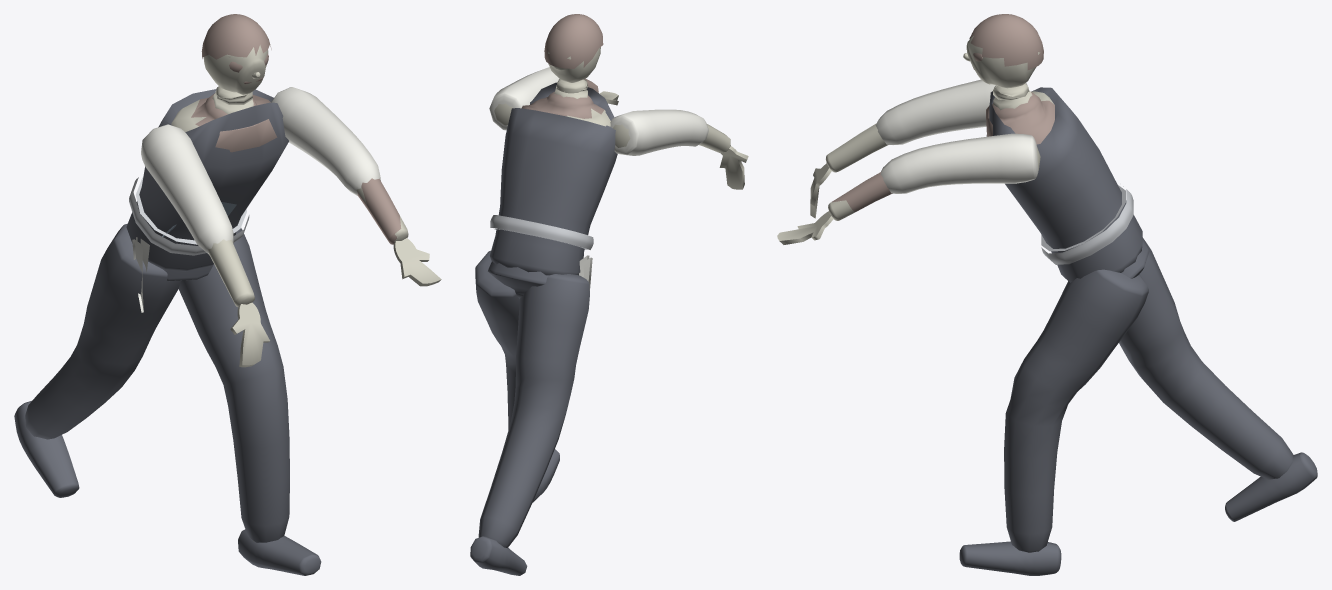
File: undead-horde-and-infected-variants-walker-garage-mecha-745b73ea__11996.glb
3 renders of one model, left to right at view 1: azimuth 30°, elevation 25°; view 2: azimuth 150°, elevation 25°; view 3: azimuth 270°, elevation 25°, orthographic. The views are drawn at different scales.
Visible parts, largest first — view 1: walker-garage-mechanic-lunging; view 2: walker-garage-mechanic-lunging; view 3: walker-garage-mechanic-lunging.
Part boxes in pixels (x1=…): walker-garage-mechanic-lunging: x1=14, y1=14, x2=441, y2=575; walker-garage-mechanic-lunging: x1=470, y1=14, x2=748, y2=575; walker-garage-mechanic-lunging: x1=777, y1=14, x2=1317, y2=575.
Size of the model in its own units: 0.5913 by 1.62 by 1.47.
